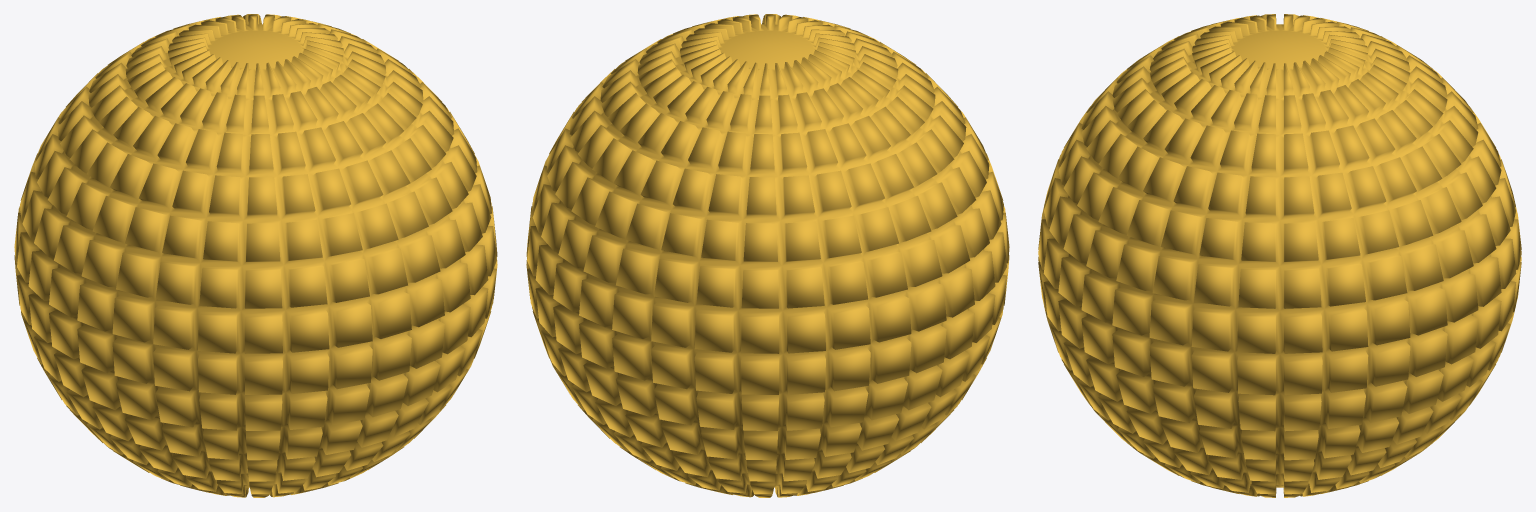
Rendered from sphere_gold_13.glb.
3 renders of one model, left to right at view 1: azimuth 30°, elevation 25°; view 2: azimuth 150°, elevation 25°; view 3: azimuth 270°, elevation 25°, orthographic.
Visible parts, largest first — view 1: Sphere.031; view 2: Sphere.031; view 3: Sphere.031.
Boxes of the visible parts, x1,y1,x2,y2 form: Sphere.031: [14, 14, 497, 497]; Sphere.031: [526, 14, 1009, 497]; Sphere.031: [1038, 14, 1521, 497].
Size of the model in its own units: 2.08 by 2.04 by 2.08.
